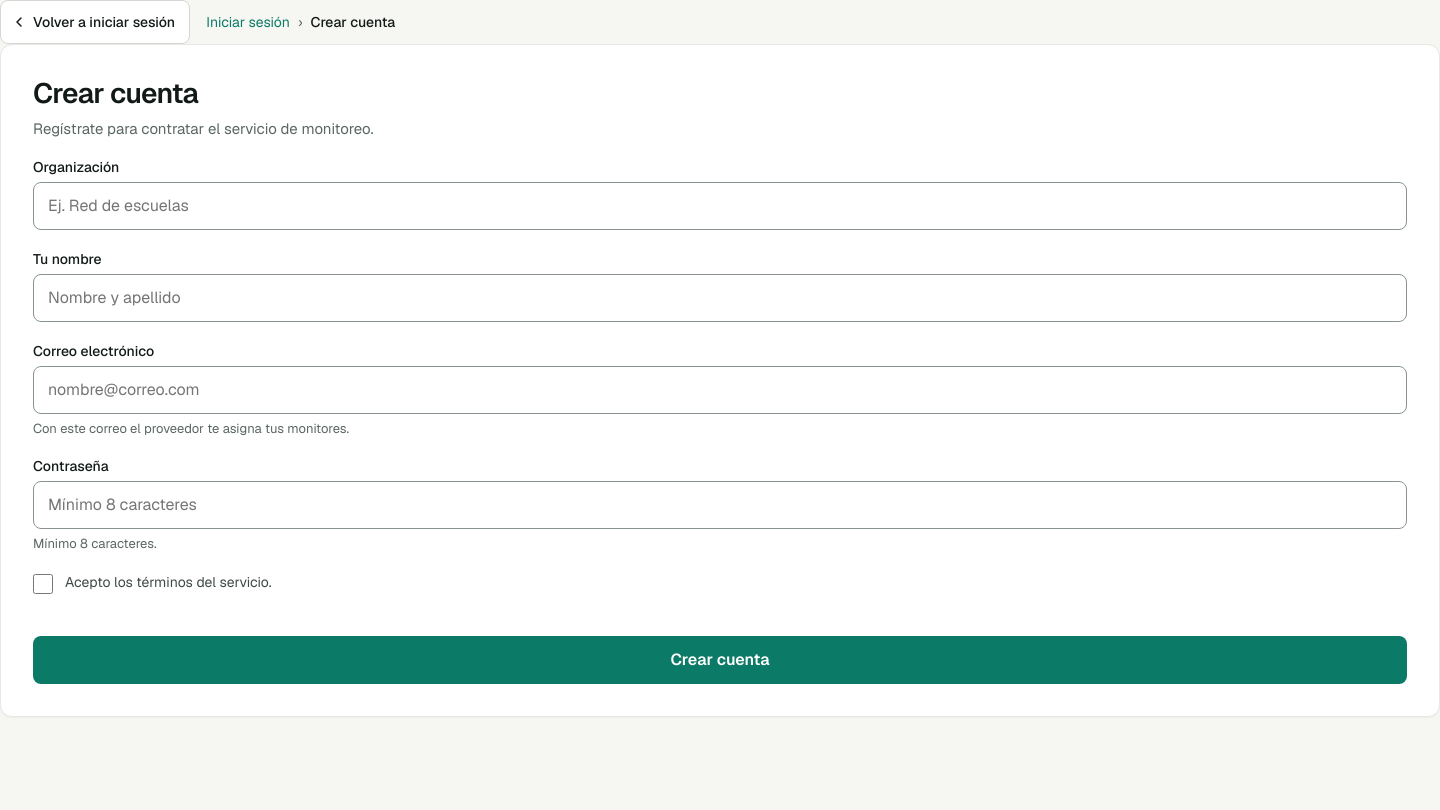
Scenario: CrearCuenta › valida los campos antes de enviar
The width and height of the screenshot is (1440, 810).
Click the button "Crear cuenta".
click(720, 660)  # box [33,636,1407,684]
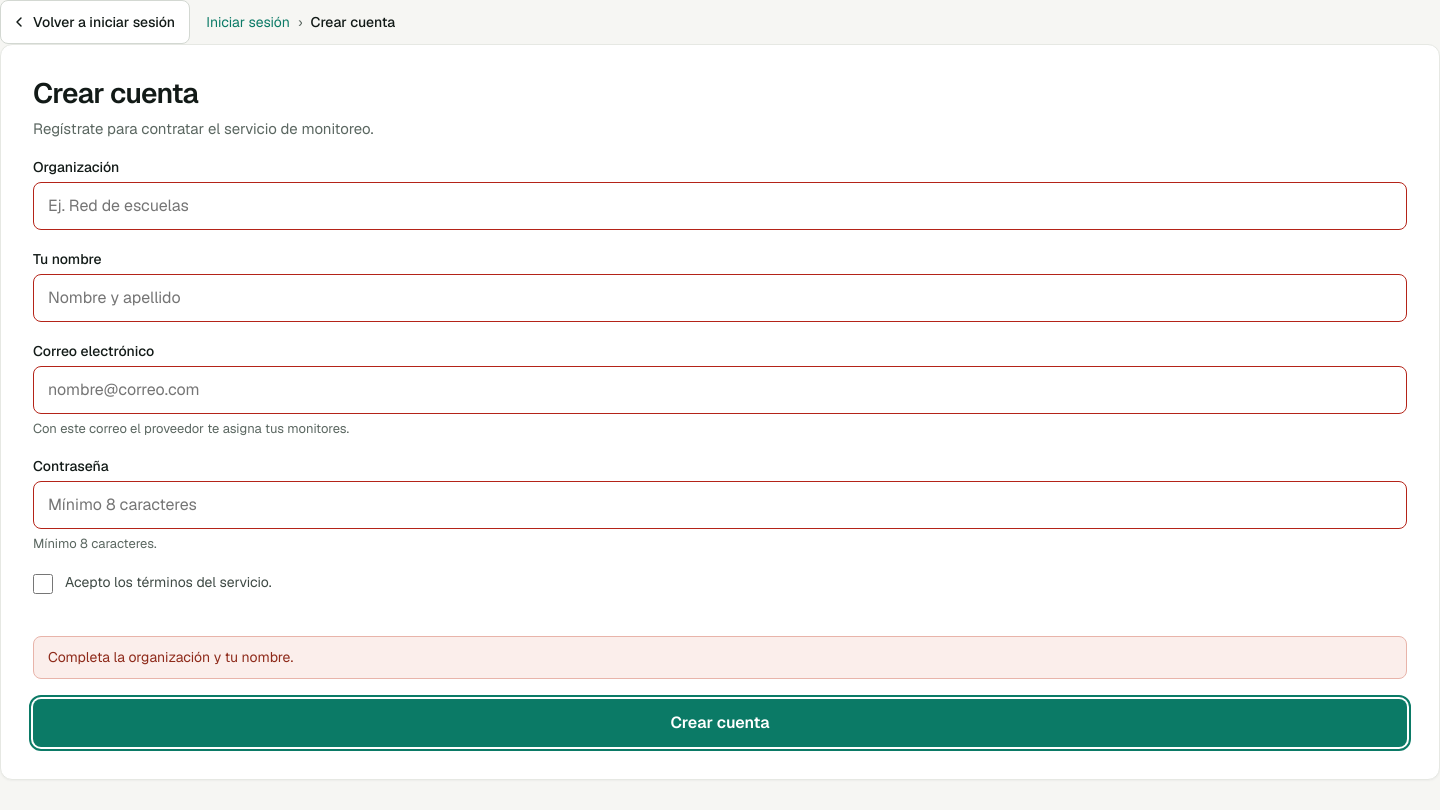
Result: the message reads "Completa la organización y tu nombre." at [48,648,293,666]
